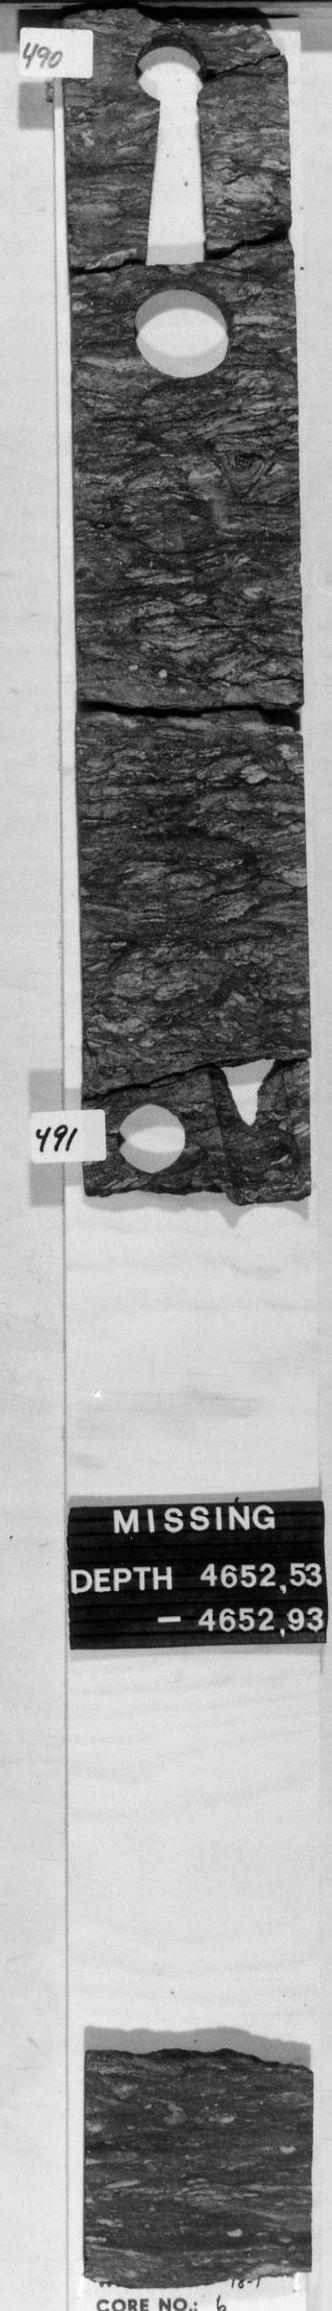hplug: (108, 1097, 196, 1184), (133, 28, 212, 105)
scal: (128, 282, 239, 383)
vplug: (204, 1049, 302, 1203), (139, 105, 214, 267)
